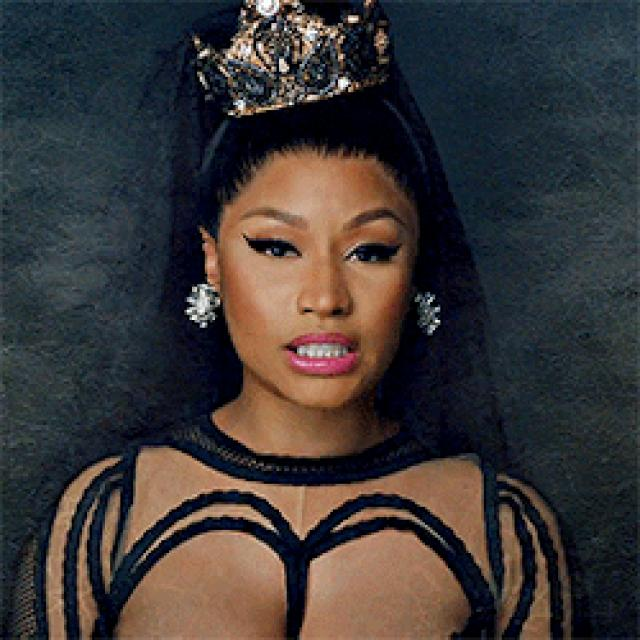human: (28, 12, 589, 640)
